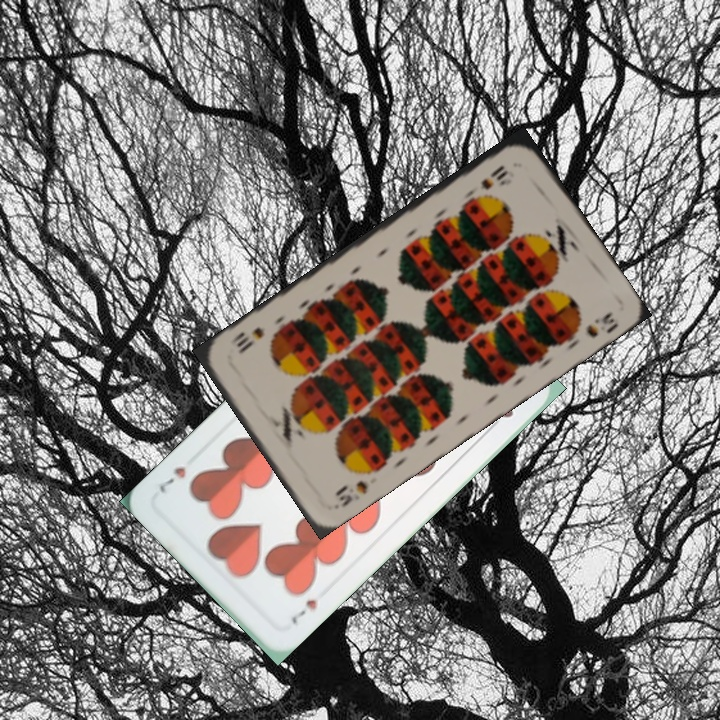H7: (287, 595, 320, 627)
S10: (331, 476, 371, 510), (476, 161, 511, 192)
